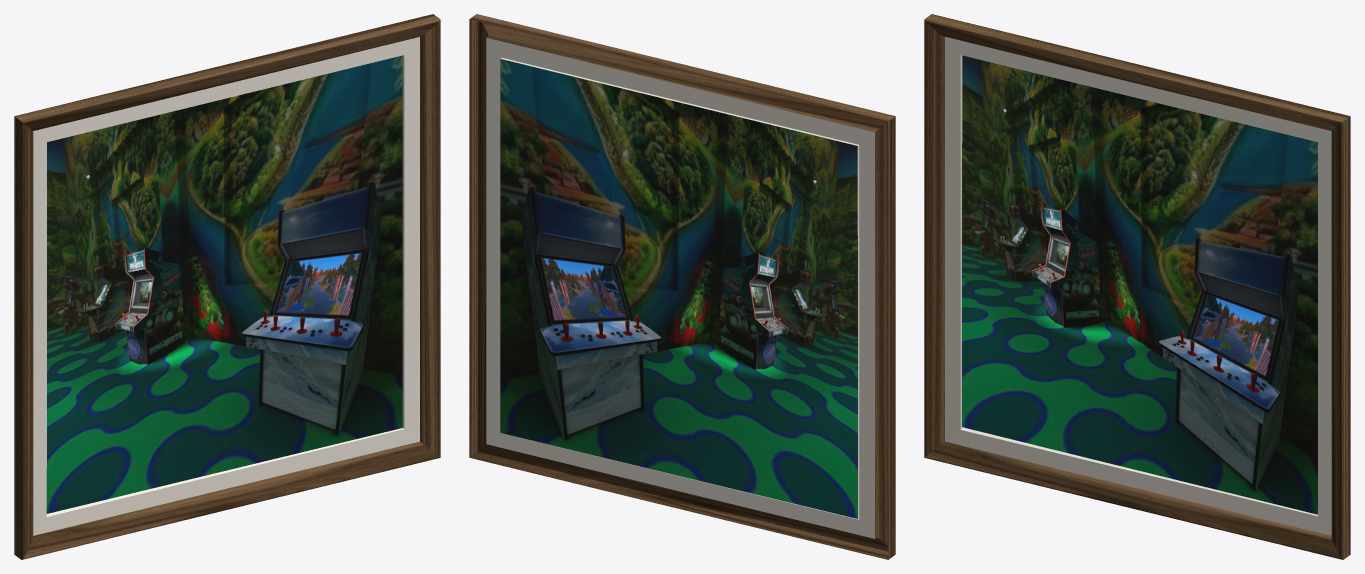
The model's file is artwork01.glb.
The picture shows the model from 3 angles, left to right: view 1: azimuth 30°, elevation 25°; view 2: azimuth 150°, elevation 25°; view 3: azimuth 330°, elevation 25°; orthographic projection.
Visible parts, largest first — view 1: artimage, frame; view 2: artimage, frame; view 3: artimage, frame.
Boxes of the visible parts, x1,y1,x2,y2 form: artimage: [46, 55, 402, 513]; frame: [14, 14, 440, 559]; artimage: [500, 59, 857, 518]; frame: [469, 14, 895, 559]; artimage: [962, 55, 1317, 514]; frame: [924, 14, 1350, 559].
Size of the model in its own units: 3.71 by 3.71 by 0.1196.
2 materials, 2 textured.
